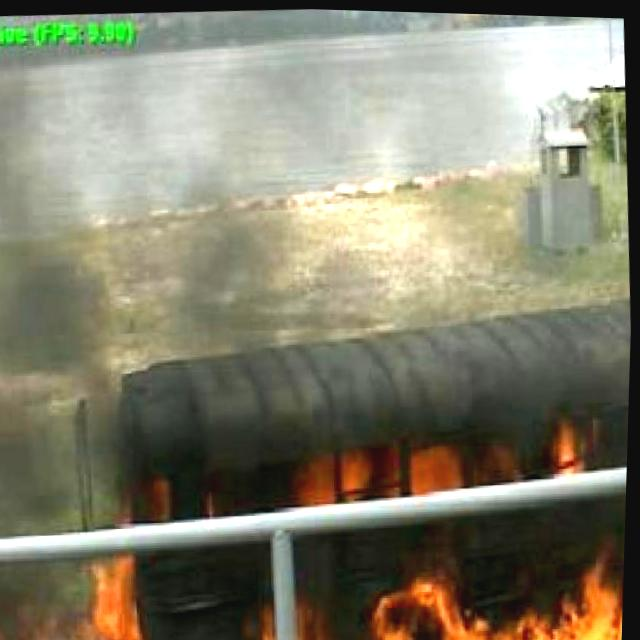helmet: (372, 550, 627, 640), (296, 438, 497, 505), (0, 551, 147, 640), (115, 486, 205, 532), (259, 601, 329, 640)
no_helmet: (0, 26, 546, 487)
